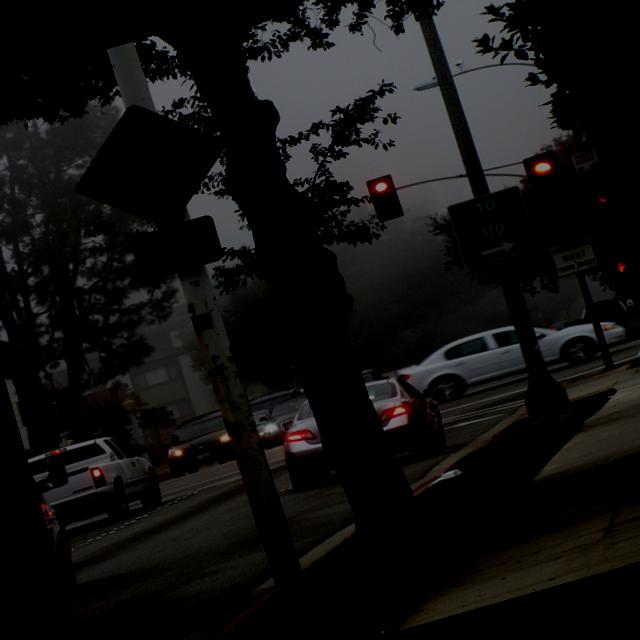Vehicle: (391, 294, 634, 412), (270, 361, 454, 494), (26, 423, 167, 538), (28, 453, 99, 589), (156, 410, 235, 478), (251, 392, 319, 448), (577, 293, 632, 338), (246, 383, 306, 412), (252, 407, 276, 436)
